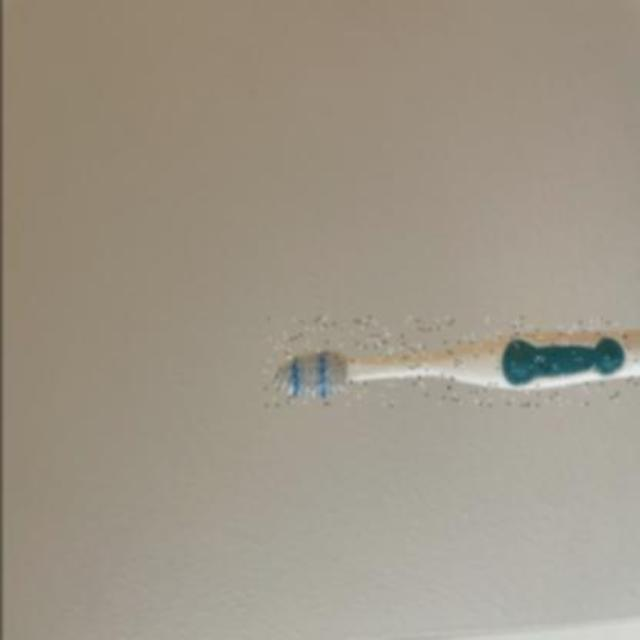toothbrush: (262, 318, 640, 407)
